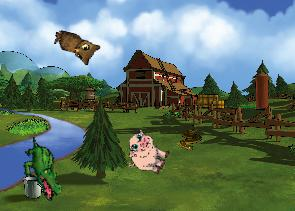crocodile: (9, 135, 76, 203)
owl: (49, 29, 101, 67)
pig: (120, 127, 174, 179)
